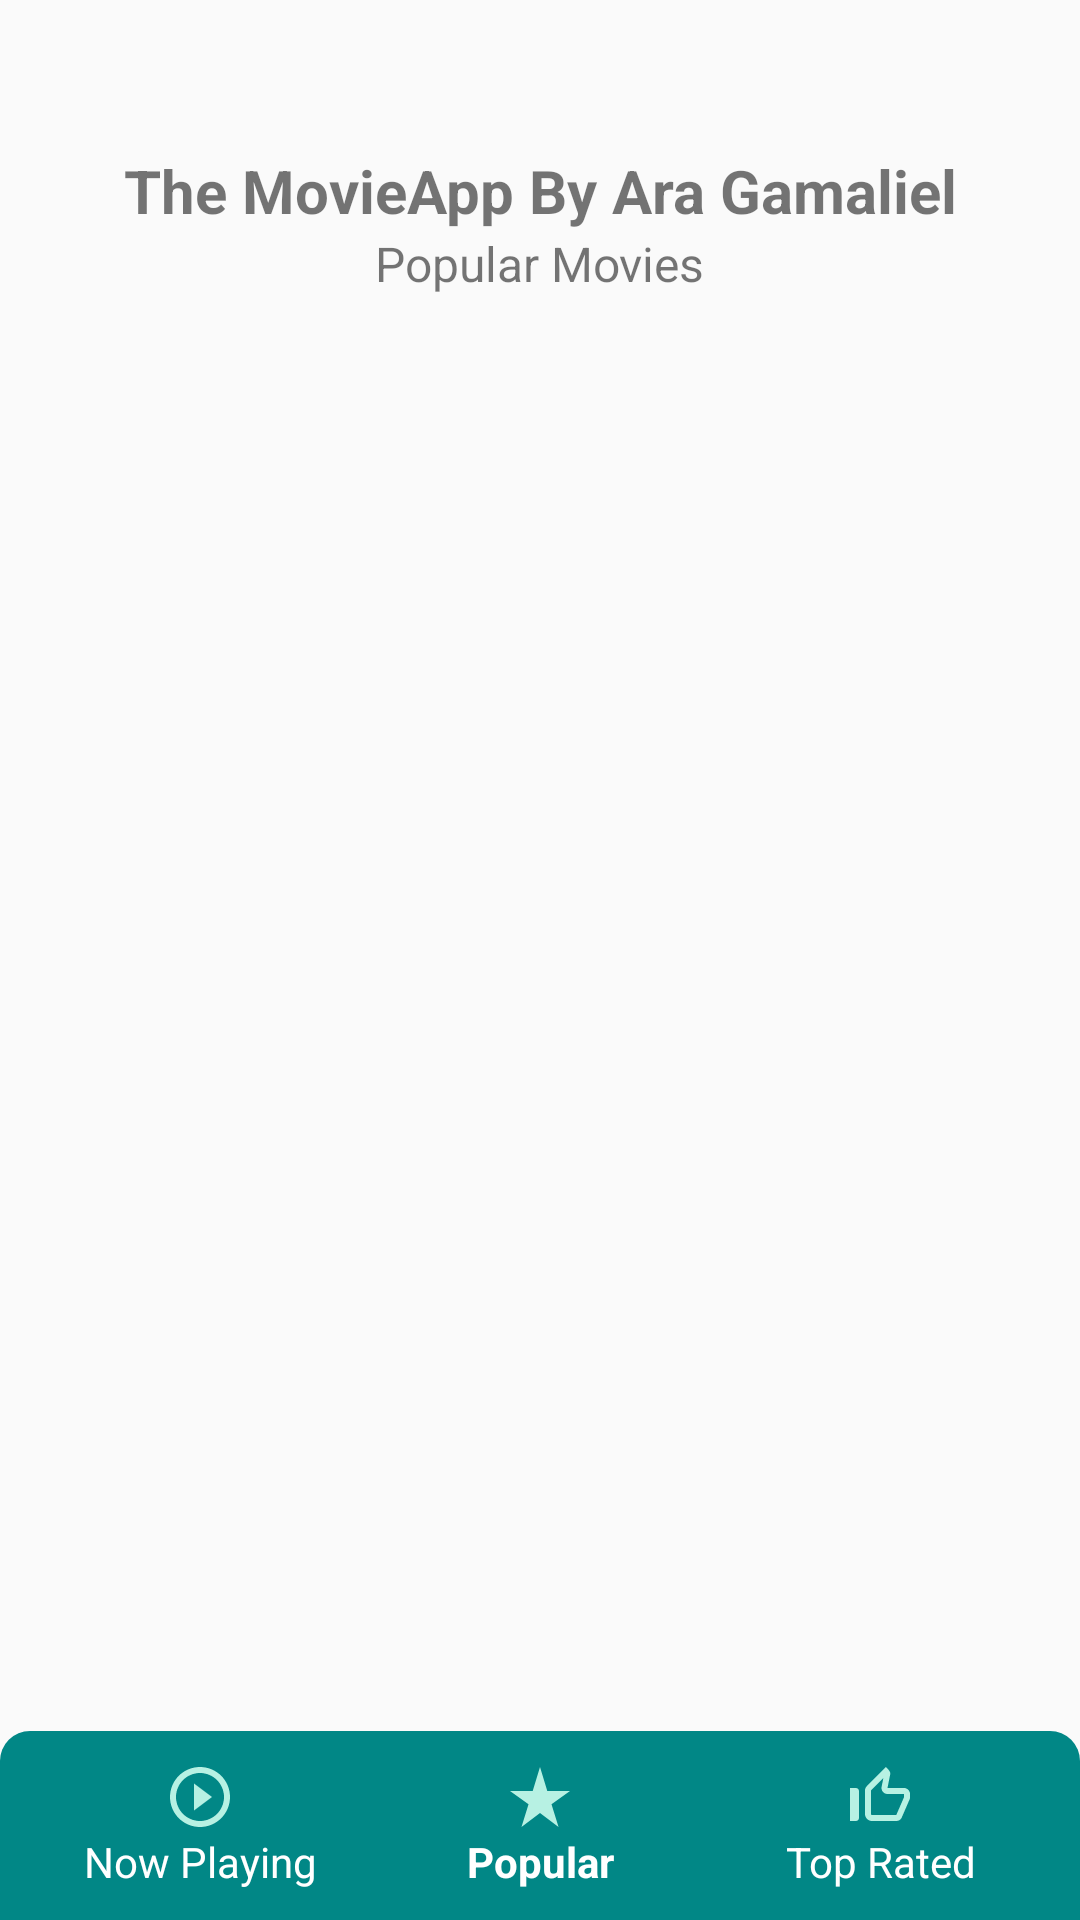

Named icons in this screenshot (1080x1920) and their centers, point (x, y):
star: point (540, 1797)
thumb: point (880, 1794)
